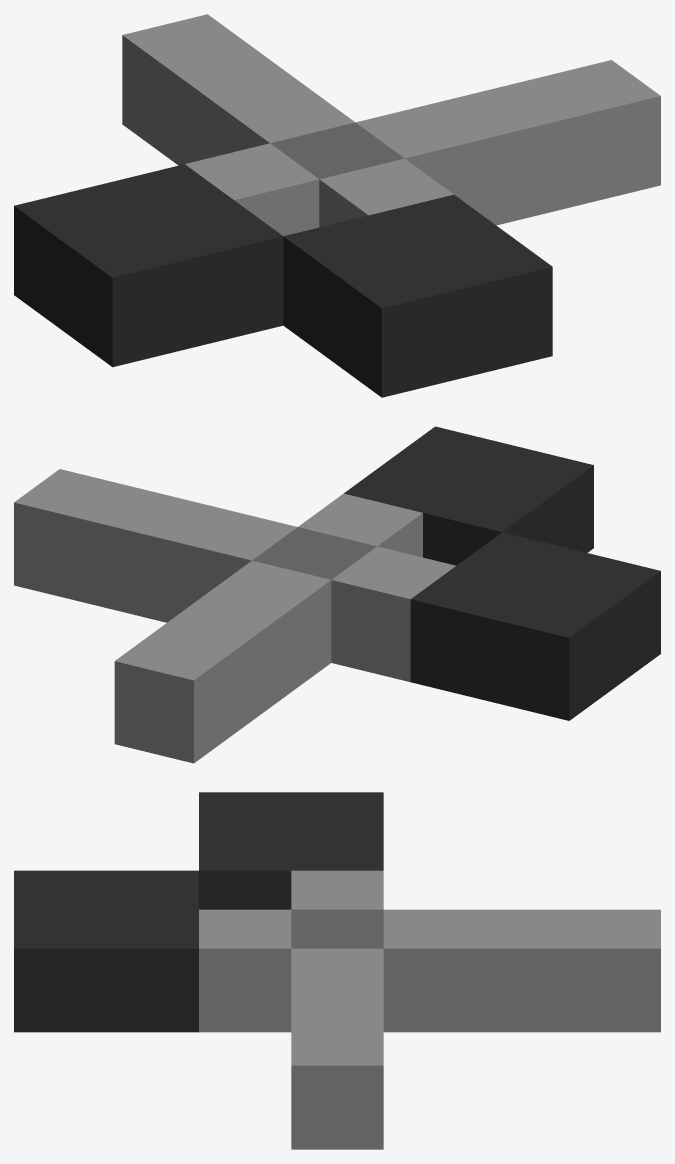
File: Scissors.obj
The picture shows the model from 3 angles, top to bottom: view 1: azimuth 30°, elevation 25°; view 2: azimuth 150°, elevation 25°; view 3: azimuth 270°, elevation 25°; orthographic projection. The views are drawn at different scales.
Parts seen in each view (by area): view 1: Scissors; view 2: Scissors; view 3: Scissors.
Boxes of the visible parts, x1,y1,x2,y2 form: Scissors: (14,14,660,397); Scissors: (14,426,660,763); Scissors: (14,792,660,1149).
Size of the model in its own units: 7 by 1 by 7.
1 material, 1 textured.
